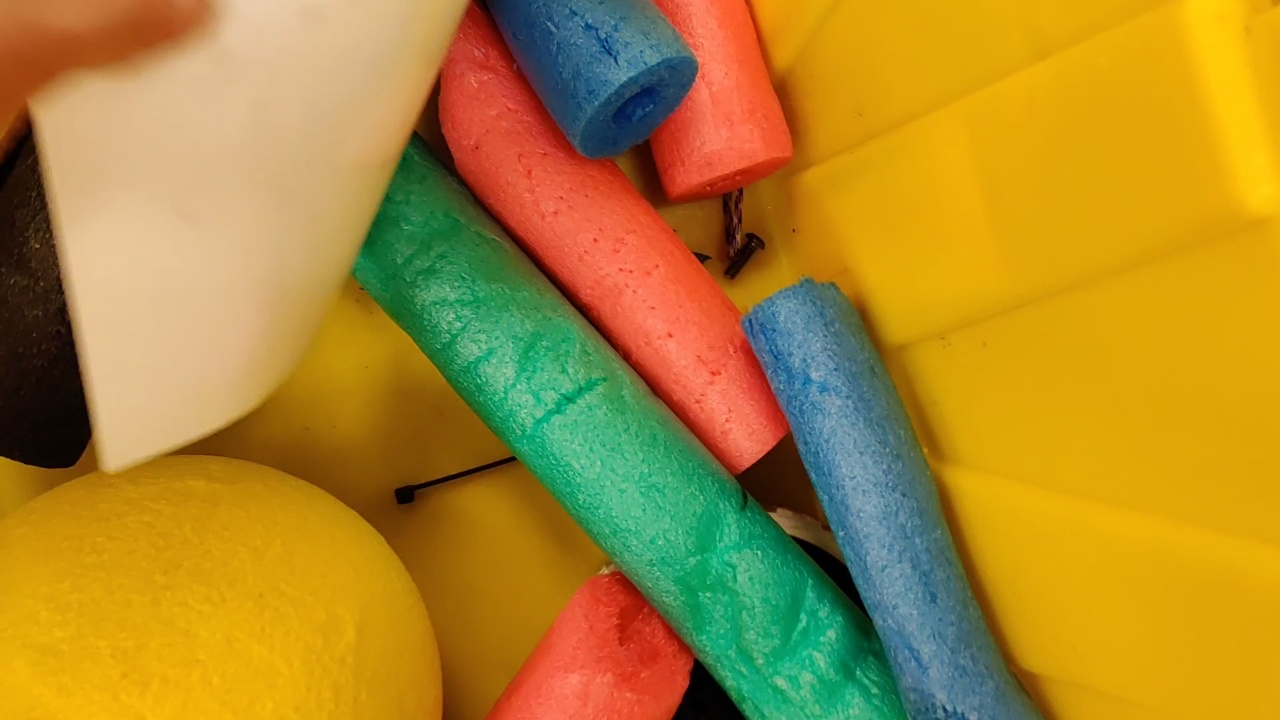Ball: (1, 453, 444, 719)
